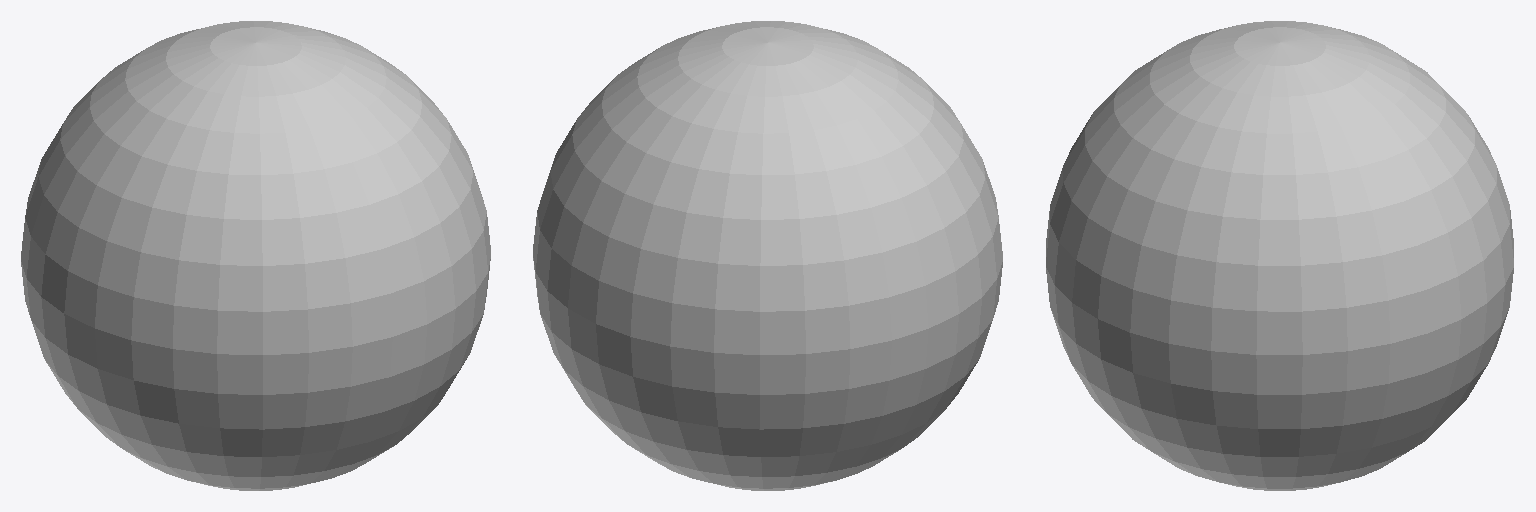
File: coffeemachine.obj
The picture shows the model from 3 angles: view 1: azimuth 30°, elevation 25°; view 2: azimuth 150°, elevation 25°; view 3: azimuth 270°, elevation 25°; orthographic projection.
Visible parts, largest first — view 1: Sphere; view 2: Sphere; view 3: Sphere.
Part boxes in pixels (x1,y1,x2,y2): Sphere: (21, 21, 490, 490); Sphere: (533, 21, 1002, 490); Sphere: (1046, 21, 1513, 490).
Size of the model in its own units: 78.54 by 78.91 by 78.54.